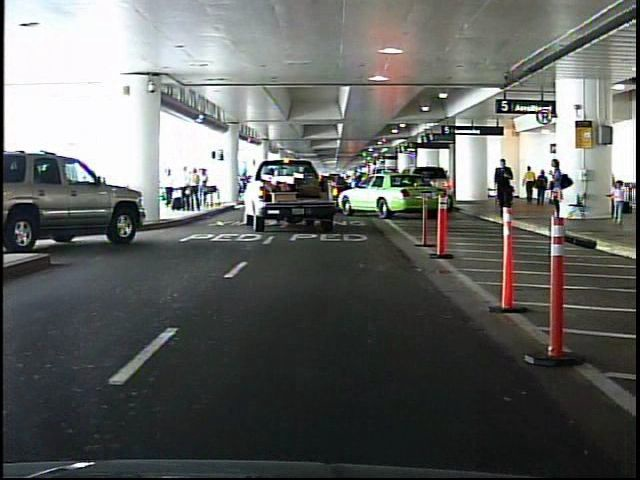person: (545, 155, 571, 225), (492, 156, 515, 220), (604, 177, 627, 227), (536, 170, 548, 208), (524, 166, 535, 204)
